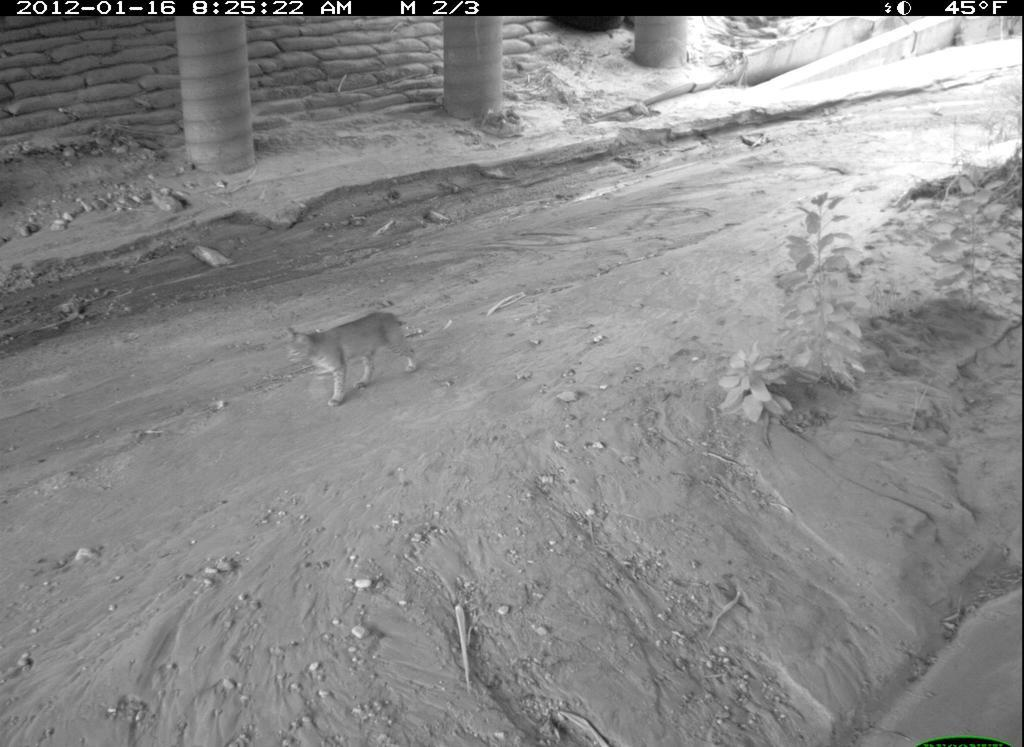bobcat: (282, 312, 428, 405)
